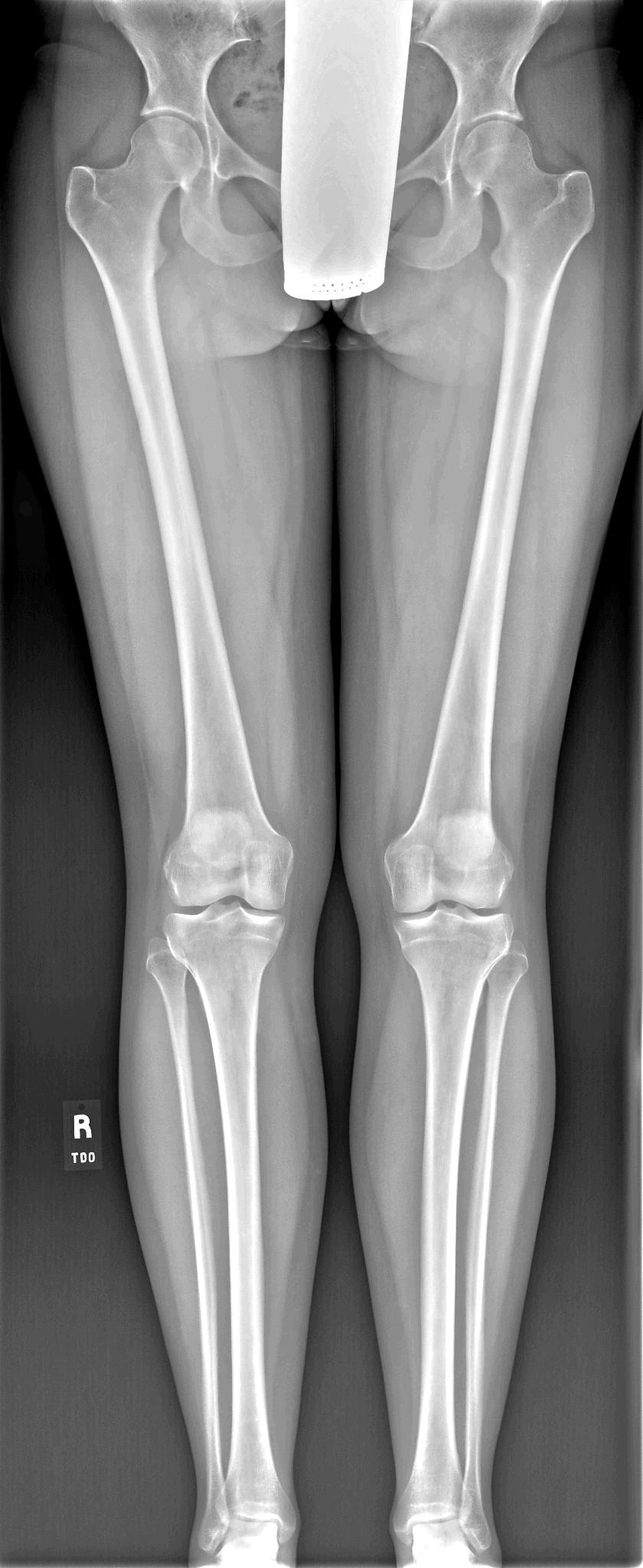Leg Fibula: (147, 939, 229, 1562), (461, 944, 529, 1551)
Leg Tibia: (165, 904, 295, 1553), (394, 905, 513, 1536)
femur: (66, 117, 293, 911), (385, 119, 593, 915)
